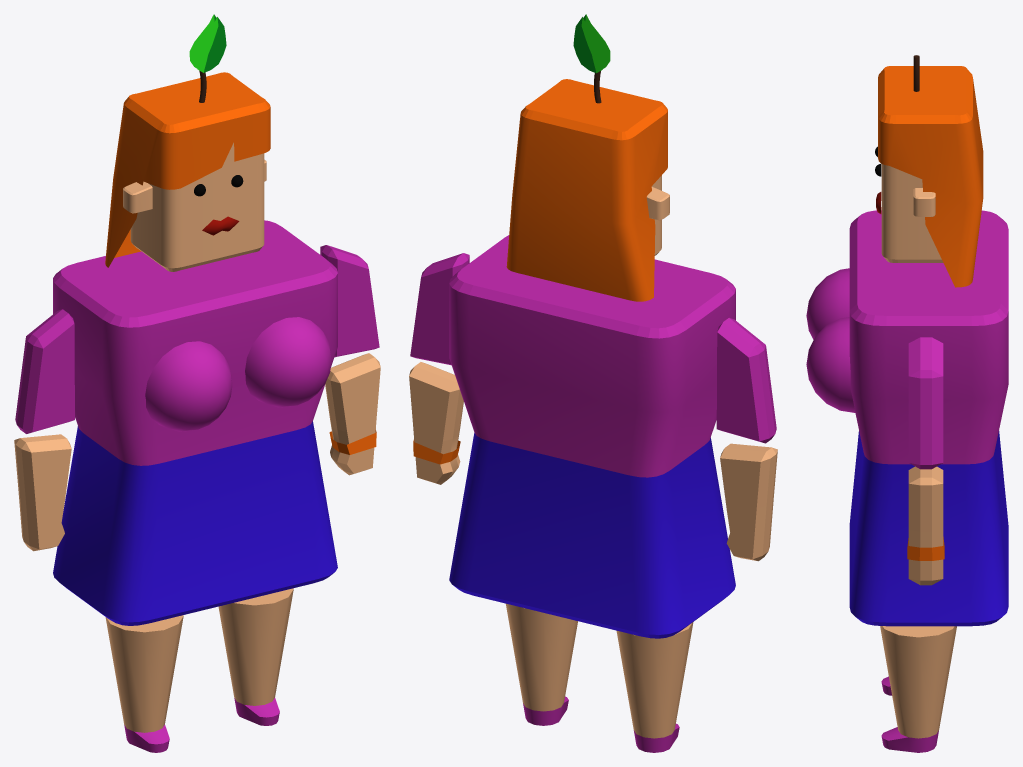
File: ch_w_puble.FBX
3 views of the same model, side by side, from view 1: azimuth 30°, elevation 25°; view 2: azimuth 150°, elevation 25°; view 3: azimuth 270°, elevation 25° (orthographic).
Visible parts, largest first — view 1: Box736, Box763, Box737, Cone037, Cone030, Box742, Box743, Box741, Box740, OilTank004; view 2: Box736, Box763, Cone037, Cone030, Box742, Box743, Box741, Box740, Box737; view 3: Box736, Box763, Cone030, Box737, Box740, Box741.
Boxes of the visible parts, x1=… form: Box736: x1=53, y1=220, x2=337, y2=625; Box763: x1=105, y1=14, x2=270, y2=267; Box737: x1=123, y1=142, x2=266, y2=271; Cone037: x1=105, y1=615, x2=183, y2=752; Cone030: x1=218, y1=588, x2=293, y2=725; Box742: x1=15, y1=309, x2=74, y2=433; Box743: x1=14, y1=434, x2=71, y2=551; Box741: x1=325, y1=353, x2=380, y2=475; Box740: x1=320, y1=245, x2=379, y2=357; OilTank004: x1=194, y1=175, x2=243, y2=235; Box736: x1=449, y1=235, x2=735, y2=638; Box763: x1=506, y1=14, x2=667, y2=301; Cone037: x1=616, y1=622, x2=693, y2=752; Cone030: x1=506, y1=603, x2=577, y2=725; Box742: x1=716, y1=318, x2=776, y2=443; Box743: x1=720, y1=443, x2=777, y2=561; Box741: x1=409, y1=362, x2=463, y2=484; Box740: x1=410, y1=253, x2=469, y2=365; Box737: x1=646, y1=175, x2=669, y2=255; Box736: x1=806, y1=210, x2=1008, y2=626; Box763: x1=878, y1=55, x2=983, y2=287; Cone030: x1=880, y1=626, x2=956, y2=752; Box737: x1=881, y1=164, x2=943, y2=262; Box740: x1=908, y1=337, x2=943, y2=469; Box741: x1=907, y1=466, x2=944, y2=585.
Bounding box in the file's own units: 3.1 × 5.86 × 1.51.
